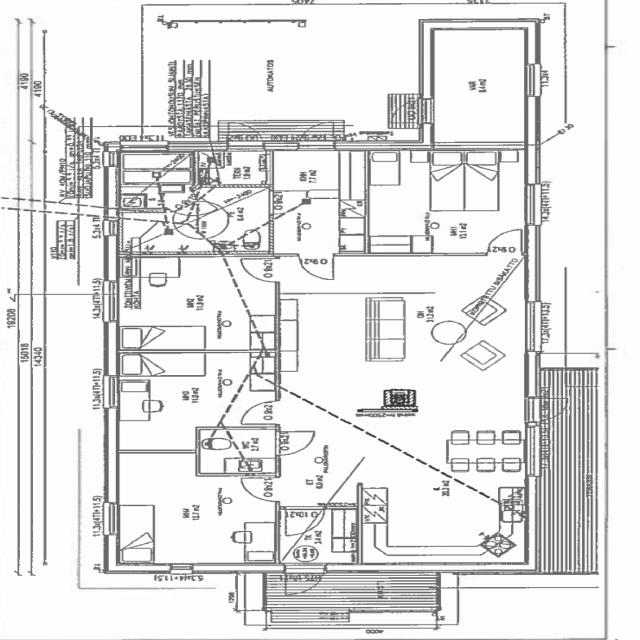door: (165, 190, 219, 223), (285, 563, 325, 597), (525, 398, 577, 422), (382, 99, 434, 122), (298, 118, 335, 150), (228, 119, 263, 150), (286, 506, 324, 533), (276, 431, 318, 455), (238, 258, 280, 282), (240, 478, 280, 501), (240, 401, 280, 424), (269, 191, 309, 213), (299, 253, 333, 278), (488, 232, 522, 256)
